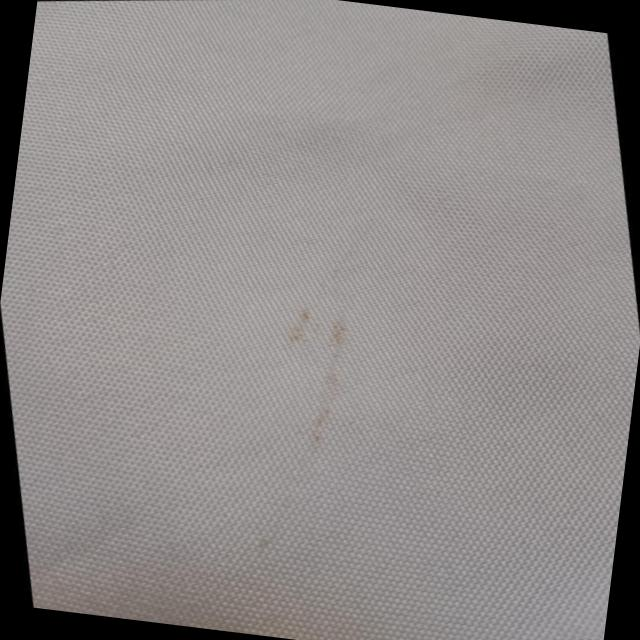stain: (245, 290, 388, 462)
